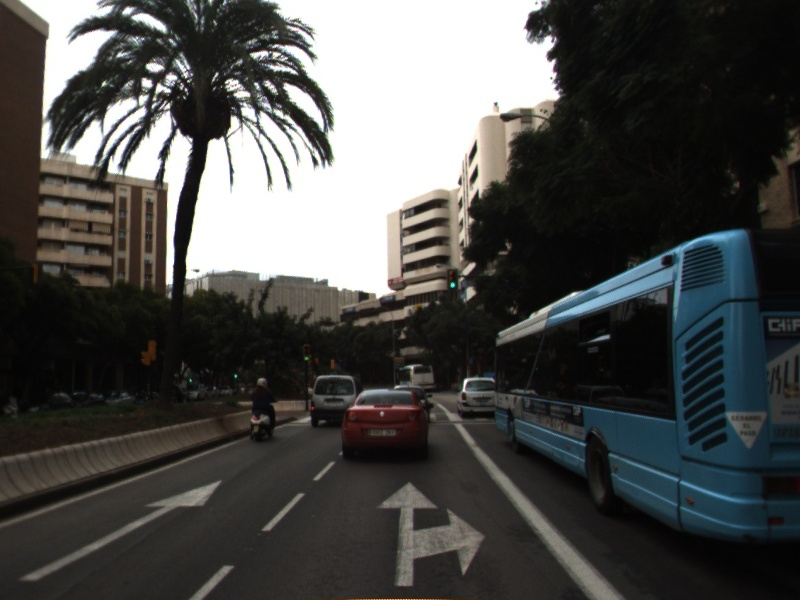STRAIGHT: (16, 476, 227, 585)
STRAIGHT_RIGHT: (370, 477, 490, 589)
